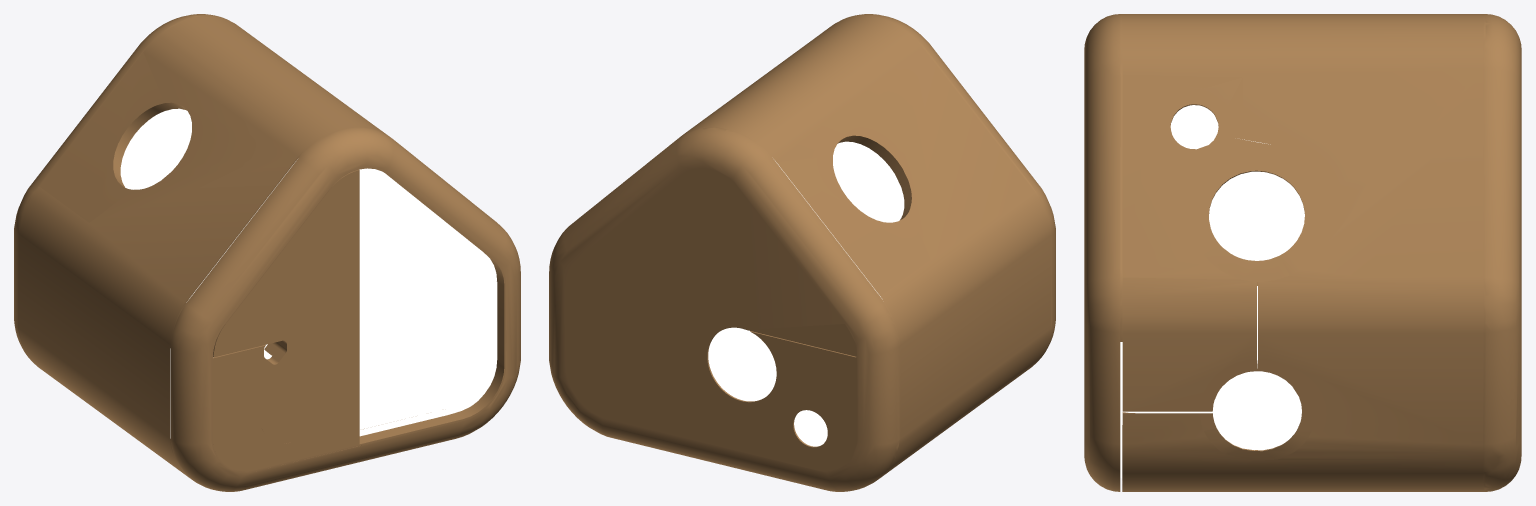
Rendered from Homie_Jath.glb.
The picture shows the model from 3 angles, left to right: view 1: azimuth 30°, elevation 25°; view 2: azimuth 150°, elevation 25°; view 3: azimuth 270°, elevation 25°; orthographic projection. The views are drawn at different scales.
Visible parts, largest first — view 1: connector, connector.001; view 2: connector, connector.001; view 3: connector, connector.001.
Part boxes in pixels (x1,y1,x2,y2): connector: (14, 14, 520, 491); connector.001: (120, 108, 497, 438); connector: (549, 14, 1055, 491); connector.001: (708, 141, 904, 446); connector: (1084, 14, 1521, 491); connector.001: (1120, 105, 1304, 478).
Size of the model in its own units: 0.5144 by 0.4718 by 0.4685.
